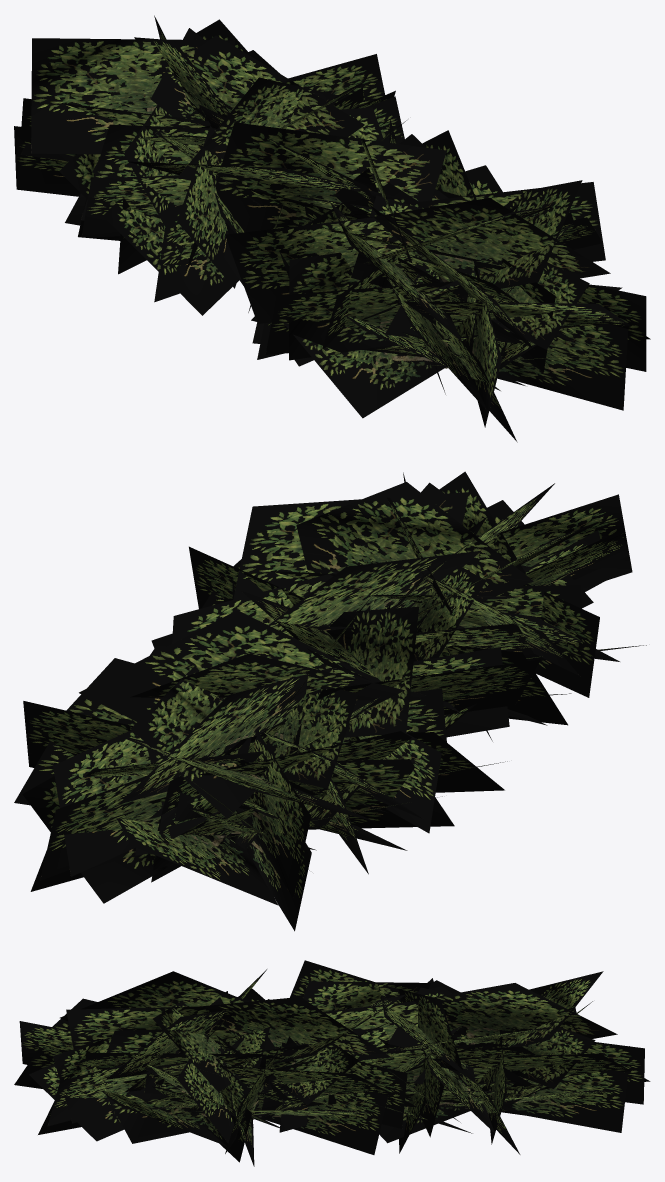
File: bushmiddle.obj
3 views of the same model, one above another, from view 1: azimuth 30°, elevation 25°; view 2: azimuth 150°, elevation 25°; view 3: azimuth 270°, elevation 25° (orthographic). The views are drawn at different scales.
Parts seen in each view (by area): view 1: 1; view 2: 1; view 3: 1.
Part boxes in pixels (x1=…): 1: x1=14, y1=15, x2=650, y2=442; 1: x1=14, y1=471, x2=646, y2=931; 1: x1=14, y1=960, x2=650, y2=1166.
Bounding box in the file's own units: 39.17 × 16.15 × 80.21.
Materials: 1 (1 with a texture image).
